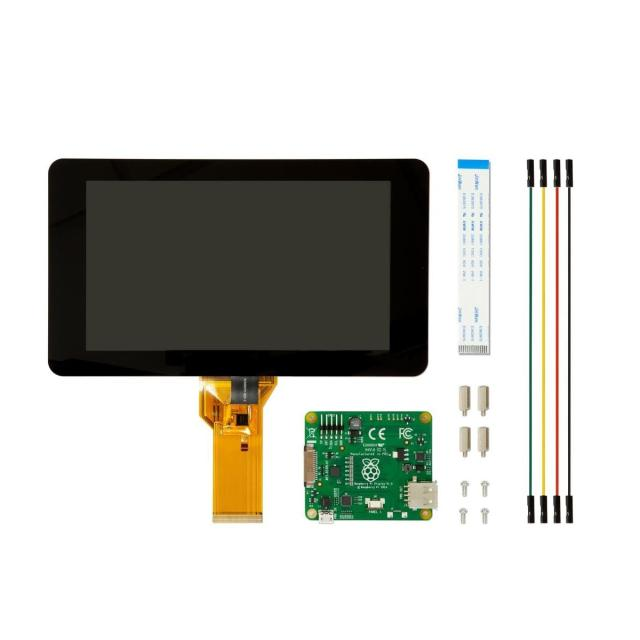Display: (26, 146, 448, 387)
